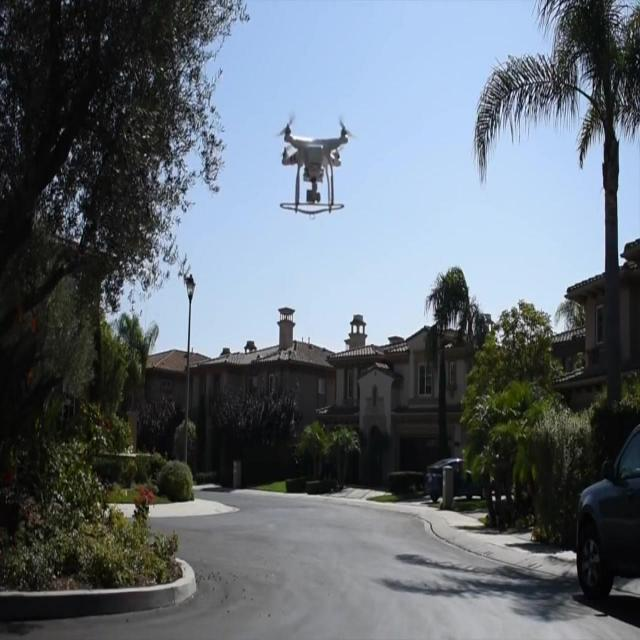UAV: (276, 114, 358, 215)
